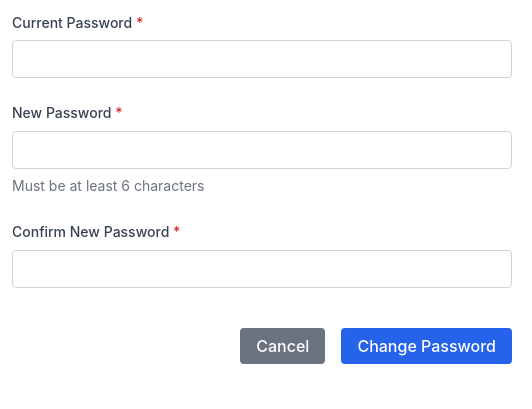
it: PasswordChangeForm - Real-time Validation › should clear validation error when user corrects current password
Note: Trigger validation error
Click the password field labelled "Current Password" at (262, 59), box x1=12 y1=40 x2=512 y2=78
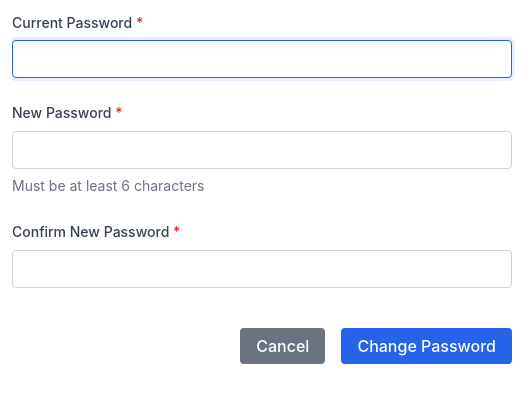
Press Tab
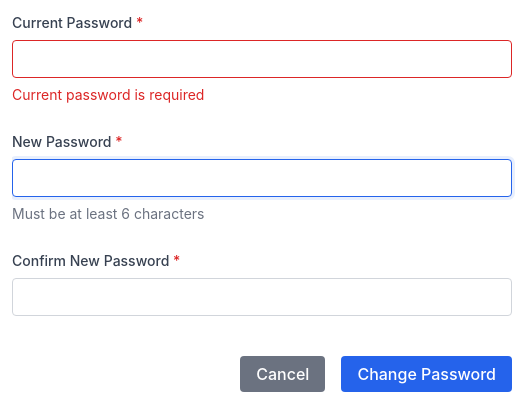
Result: the text "Current password is required" is shown at x1=12 y1=86 x2=204 y2=103
Note: Correct the input
Type "oldpassword" into the password field labelled "Current Password" at (262, 59), box x1=12 y1=40 x2=512 y2=78
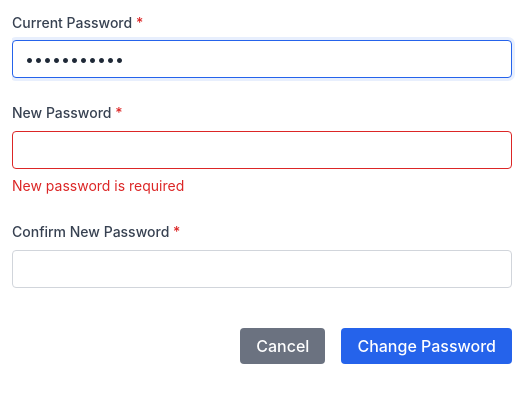
Result: the text "Current password is required" is gone
